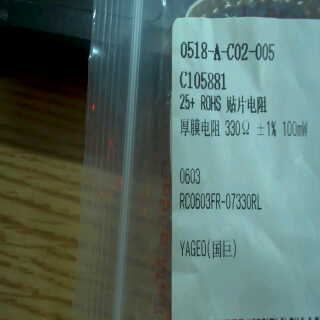330R: (223, 117, 252, 139)
